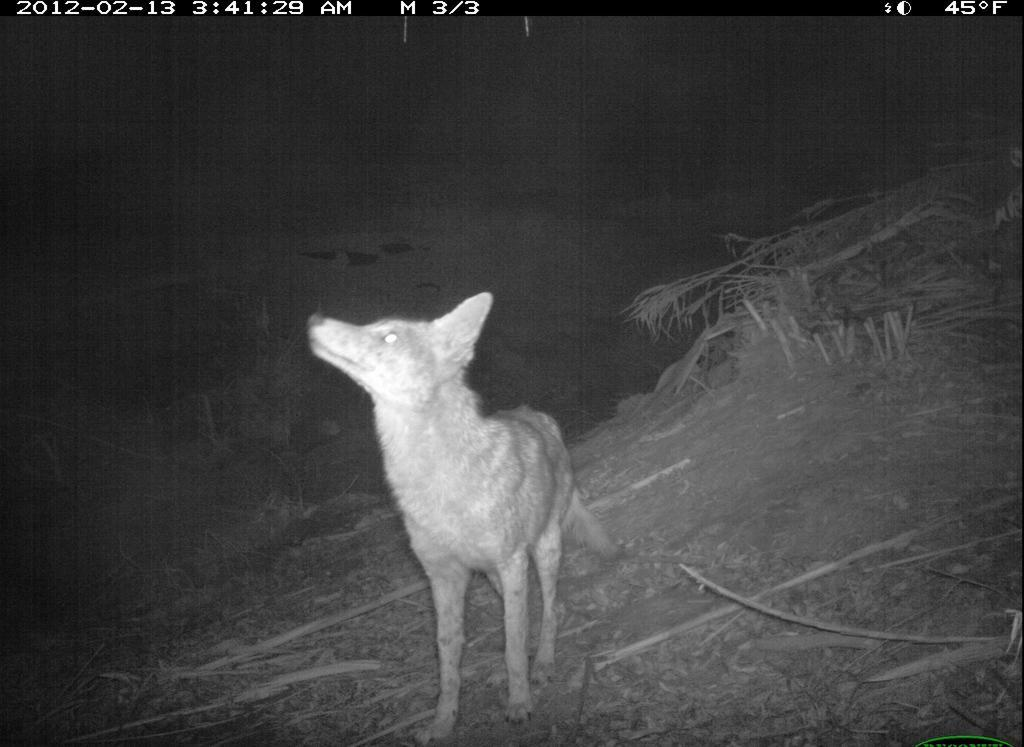coyote: (308, 289, 634, 744)
